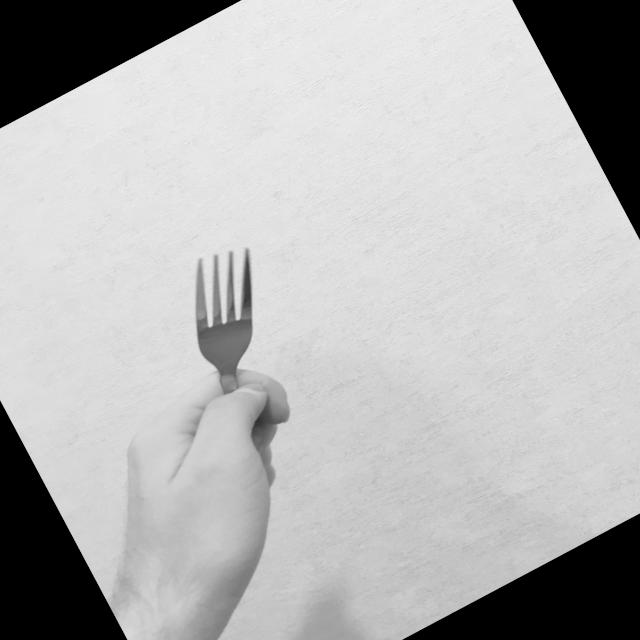fork: (156, 233, 350, 481)
